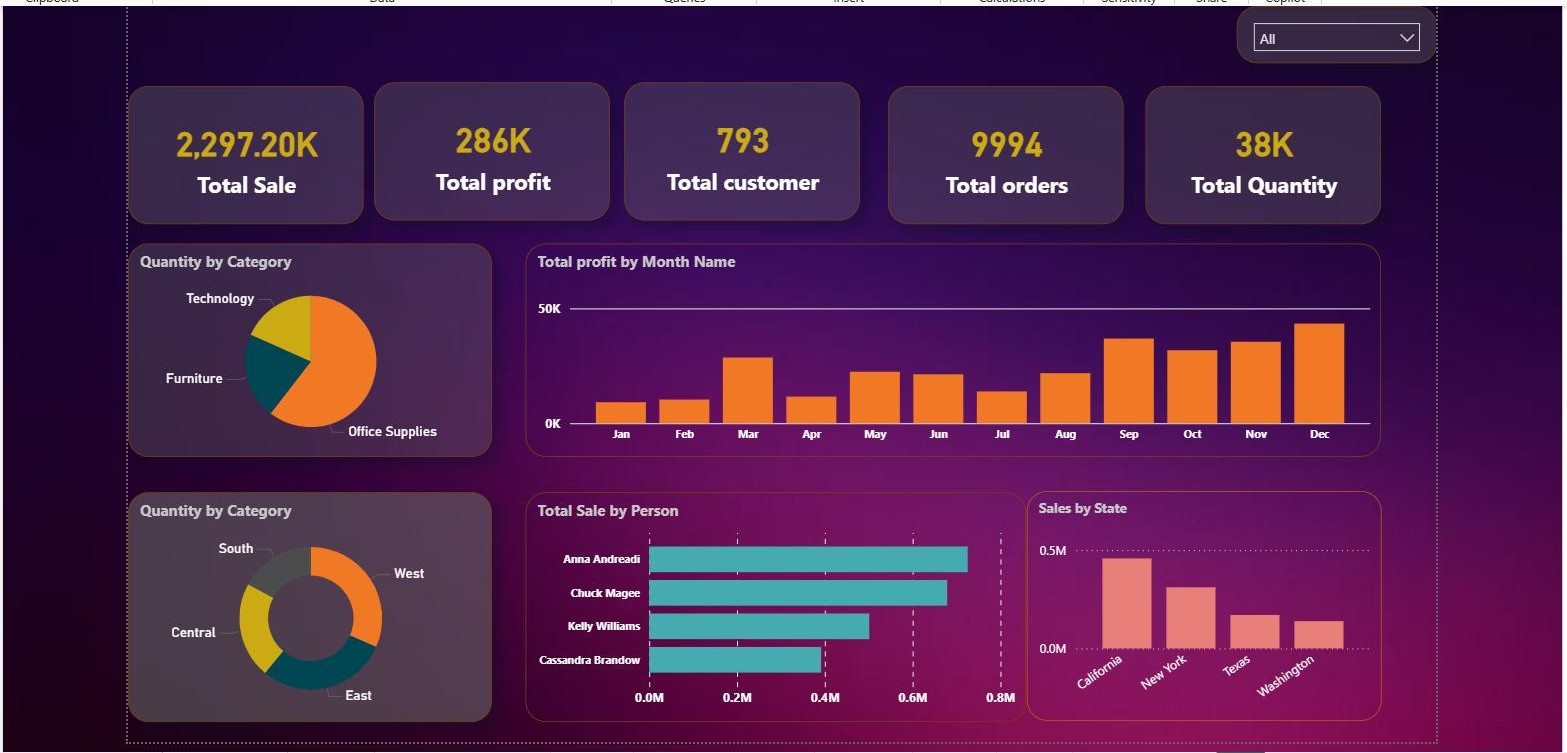

What the dashboard file says about the page in this screenshot:
{"tool":"powerbi","page":{"name":"Dashboard ","canvas":[1280,720],"ordinal":0},"visuals":[{"type":"card","fields":{"Values":["CALCULATION.TOTAL SALE"]},"box":[0,77.8,230.4,135.4],"z":0},{"type":"card","fields":{"Values":["CALCULATION.Total profit"]},"box":[240.5,74.9,230.4,135.4],"z":1000},{"type":"card","fields":{"Values":["CALCULATION.Total customer"]},"box":[485.3,74.9,230.4,135.4],"z":2000},{"type":"card","fields":{"Values":["CALCULATION.Total Quantity"]},"box":[995,77.8,230.4,135.4],"z":3000},{"type":"card","fields":{"Values":["CALCULATION.Total orders"]},"box":[743,77.8,230.4,135.4],"z":4000},{"type":"slicer","fields":{"Values":["DATE TABLE.YEAR"]},"box":[1084.3,0,195.8,56.2],"z":5000},{"type":"pieChart","title":" Quantity by Category","fields":{"Category":["Orders.Category"],"Y":["CALCULATION.Total Quantity"]},"box":[0,231.8,355.7,208.8],"z":6000},{"type":"donutChart","title":" Quantity by Category","fields":{"Y":["CALCULATION.Total Sale"],"Category":["Orders.Region"]},"box":[0,475.2,355.7,224.6],"z":7000},{"type":"columnChart","fields":{"Category":["DATE TABLE.Month Name"],"Y":["CALCULATION.Total profit"]},"box":[388.8,231.8,836.6,208.8],"z":8000},{"type":"barChart","fields":{"Y":["CALCULATION.Total Sale"],"Category":["People.Person"]},"box":[388.8,475.2,489.6,224.6],"z":9000},{"type":"columnChart","title":"Sales by State","fields":{"Category":["Orders.State"],"Y":["Sum(Orders.Sales)"]},"box":[879,475,347,225],"z":10000}]}

Visuals, with their boxes on the page's 1280x720 design canvas (x1, y1, x2, y2). These are canvas units, not pixel positions in the 1567x753 screenshot, which may show the page scaled, cropped or inside an application window:
card - CALCULATION.TOTAL SALE: left=0, top=78, right=230, bottom=213
card - CALCULATION.Total profit: left=240, top=75, right=471, bottom=210
card - CALCULATION.Total customer: left=485, top=75, right=716, bottom=210
card - CALCULATION.Total Quantity: left=995, top=78, right=1225, bottom=213
card - CALCULATION.Total orders: left=743, top=78, right=973, bottom=213
slicer - DATE TABLE.YEAR: left=1084, top=0, right=1280, bottom=56
" Quantity by Category" pieChart: left=0, top=232, right=356, bottom=441
" Quantity by Category" donutChart: left=0, top=475, right=356, bottom=700
columnChart - DATE TABLE.Month Name x CALCULATION.Total profit: left=389, top=232, right=1225, bottom=441
barChart - CALCULATION.Total Sale x People.Person: left=389, top=475, right=878, bottom=700
"Sales by State" columnChart: left=879, top=475, right=1226, bottom=700
